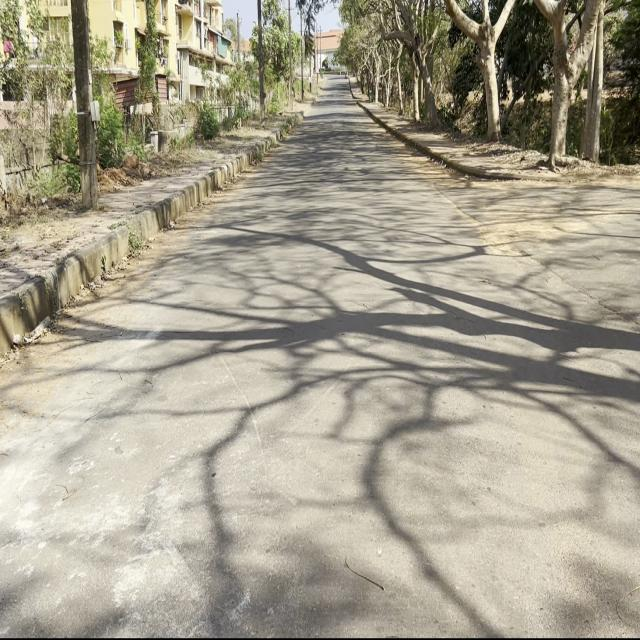Road: (5, 81, 635, 631)
